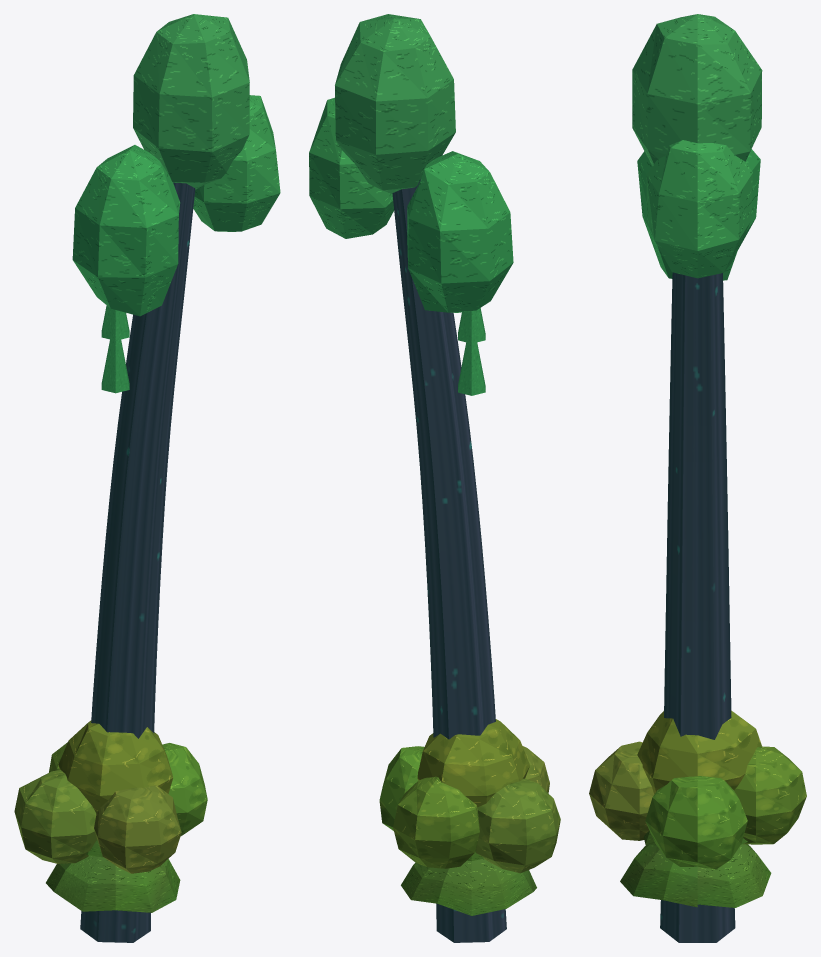
File: forest-v2.glb
The picture shows the model from 3 angles, left to right: view 1: azimuth 30°, elevation 25°; view 2: azimuth 150°, elevation 25°; view 3: azimuth 270°, elevation 25°; orthographic projection. The views are drawn at different scales.
Visible parts, largest first — view 1: LumenwoodB, BroadleafB, ConiferB; view 2: LumenwoodB, BroadleafB, ConiferB; view 3: LumenwoodB, BroadleafB, ConiferB.
Boxes of the visible parts, left/top/right/bottom form: LumenwoodB: left=72, top=14, right=280, bottom=942; BroadleafB: left=14, top=720, right=207, bottom=873; ConiferB: left=46, top=839, right=180, bottom=912; LumenwoodB: left=309, top=14, right=513, bottom=942; BroadleafB: left=379, top=719, right=560, bottom=873; ConiferB: left=401, top=852, right=536, bottom=915; LumenwoodB: left=632, top=14, right=762, bottom=942; BroadleafB: left=589, top=710, right=806, bottom=869; ConiferB: left=620, top=831, right=771, bottom=907.
Bounding box in the file's own units: 9.08 × 30.93 × 6.37.
Materials: 2 (2 with a texture image).
